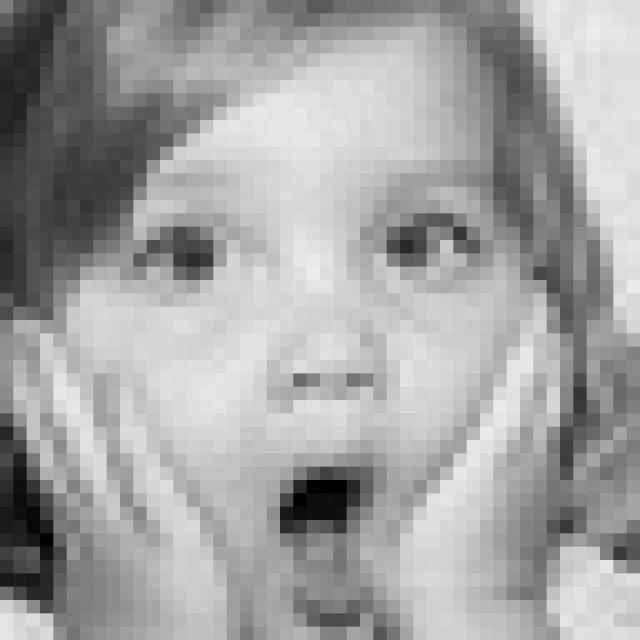surprise: (125, 160, 508, 622)
